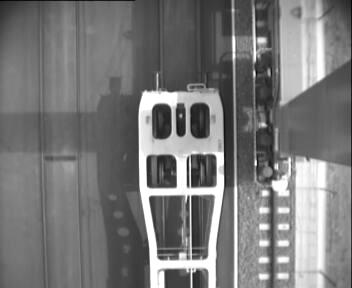wagon_scan: (145, 100, 212, 141)
